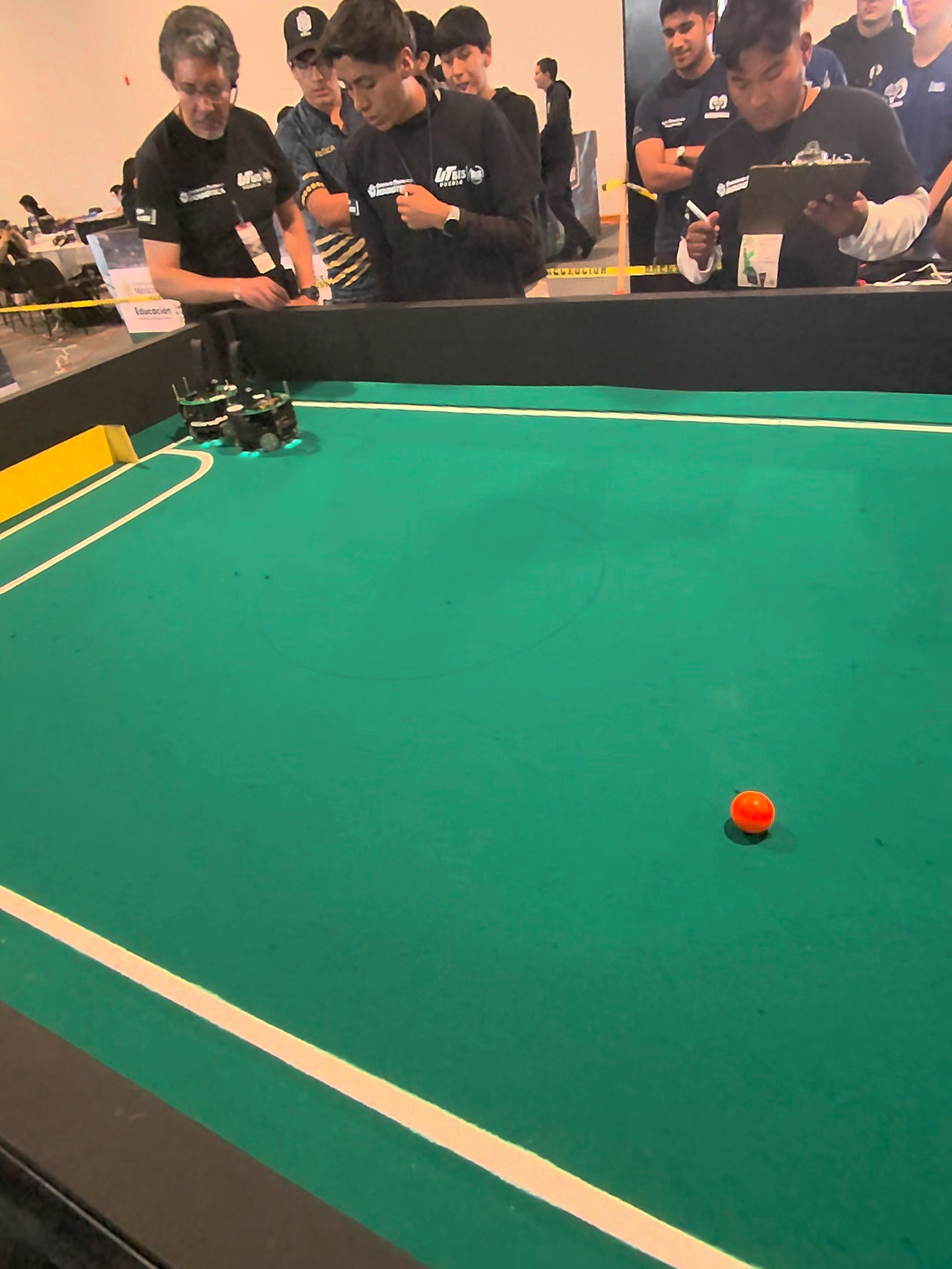Robot: (221, 311, 310, 476), (171, 331, 231, 441)
pelota: (730, 789, 778, 839)
